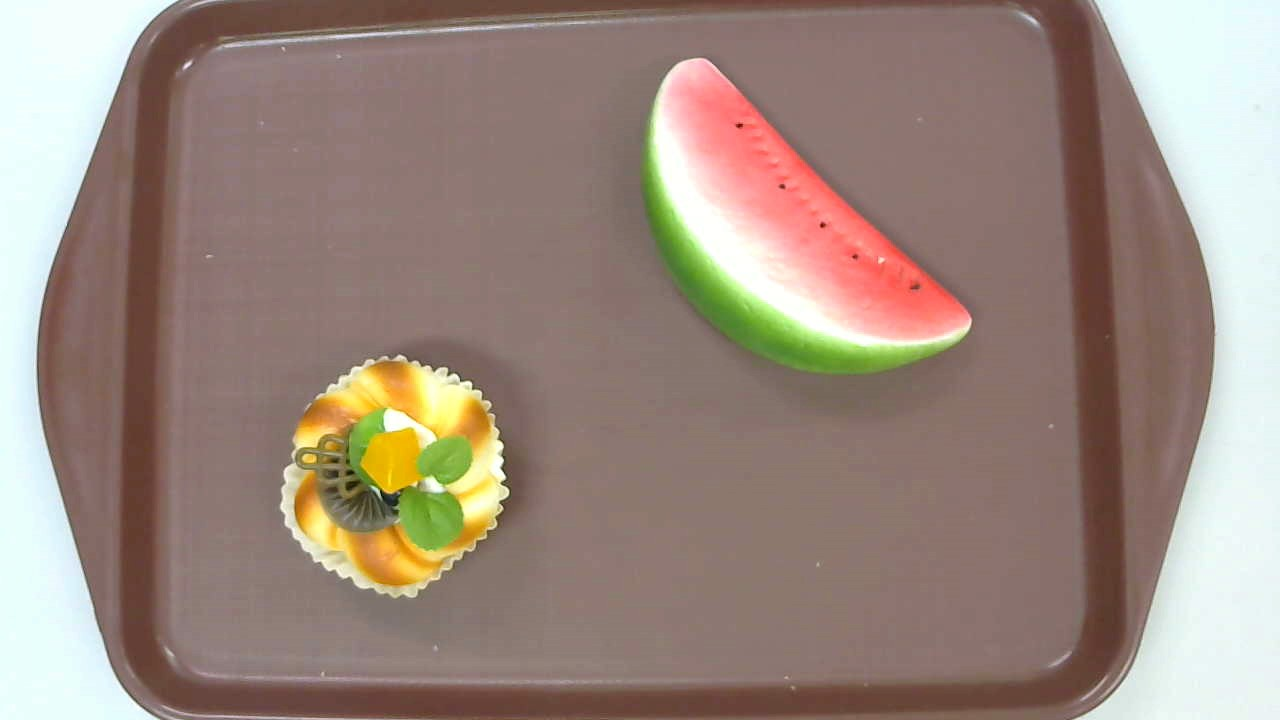fruit tart: (280, 354, 510, 599)
water melon: (640, 58, 972, 377)
